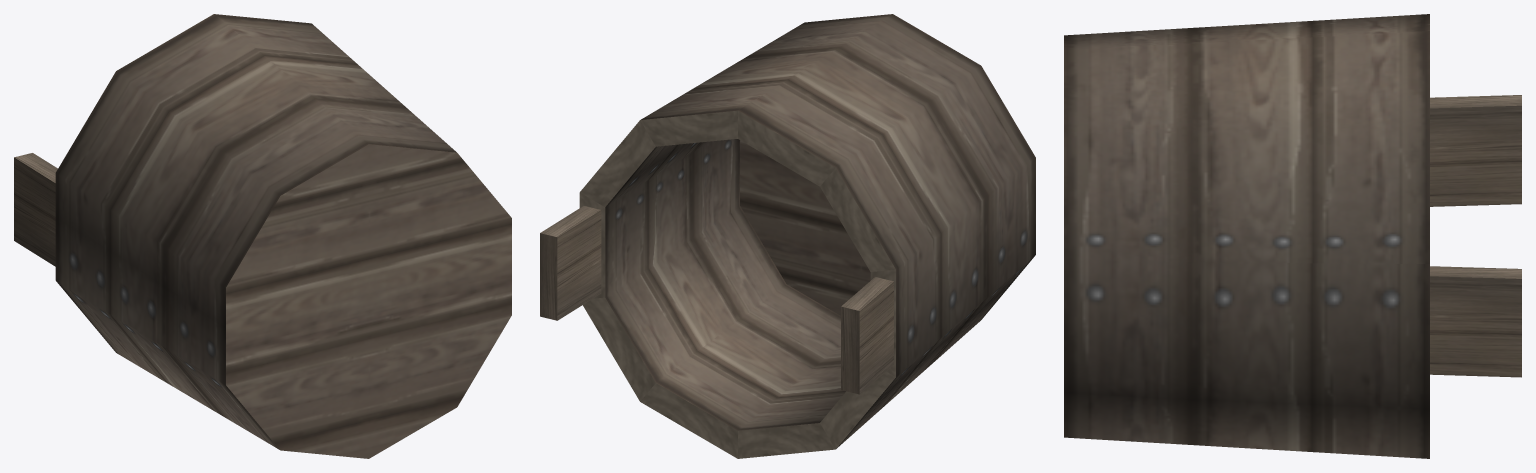
Rendered from Bucket_Empty.fbx.
3 renders of one model, left to right at view 1: azimuth 30°, elevation 25°; view 2: azimuth 150°, elevation 25°; view 3: azimuth 270°, elevation 25°, orthographic. The views are drawn at different scales.
Visible parts, largest first — view 1: Bucket_Empty; view 2: Bucket_Empty; view 3: Bucket_Empty.
Boxes of the visible parts, x1=… form: Bucket_Empty: x1=14, y1=14, x2=511, y2=458; Bucket_Empty: x1=540, y1=14, x2=1035, y2=458; Bucket_Empty: x1=1064, y1=14, x2=1521, y2=458.
Size of the model in its own units: 0.5065 by 0.5271 by 0.5322.
